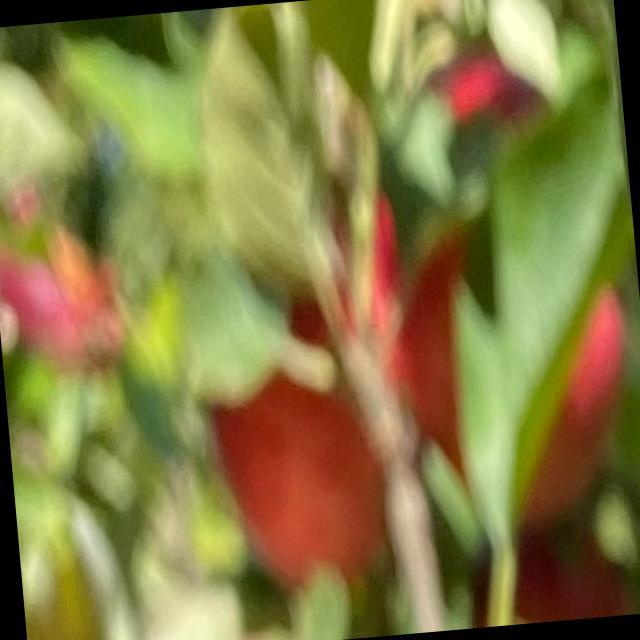100-_ripeness: (350, 44, 639, 536), (205, 286, 392, 587)
